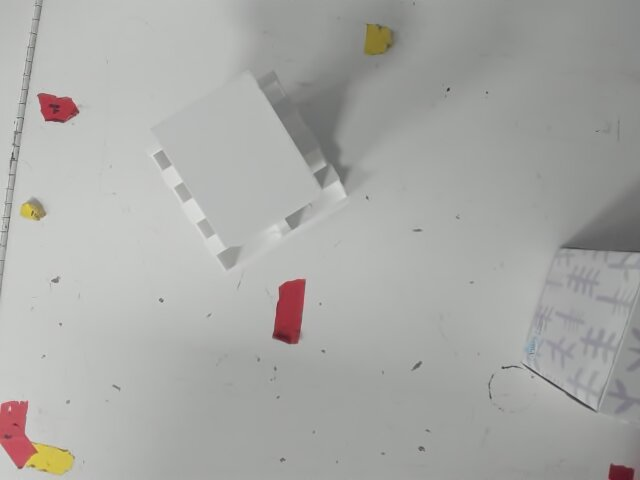white pallet: (146, 66, 358, 274)
